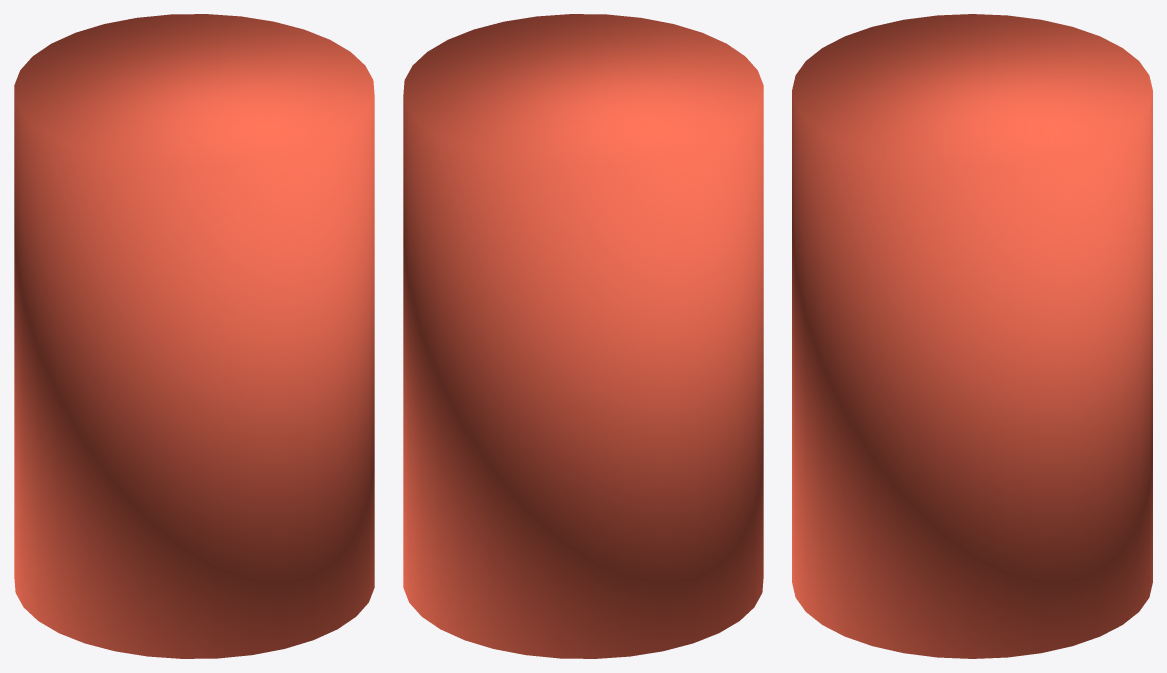
File: down_field.fbx
3 renders of one model, left to right at view 1: azimuth 30°, elevation 25°; view 2: azimuth 150°, elevation 25°; view 3: azimuth 270°, elevation 25°, orthographic.
Parts seen in each view (by area): view 1: down_field; view 2: down_field; view 3: down_field.
Part boxes in pixels (left/top/right/bottom): down_field: left=14, top=14, right=374, bottom=658; down_field: left=403, top=14, right=763, bottom=658; down_field: left=792, top=14, right=1152, bottom=658.
Size of the model in its own units: 124 by 187 by 124.
